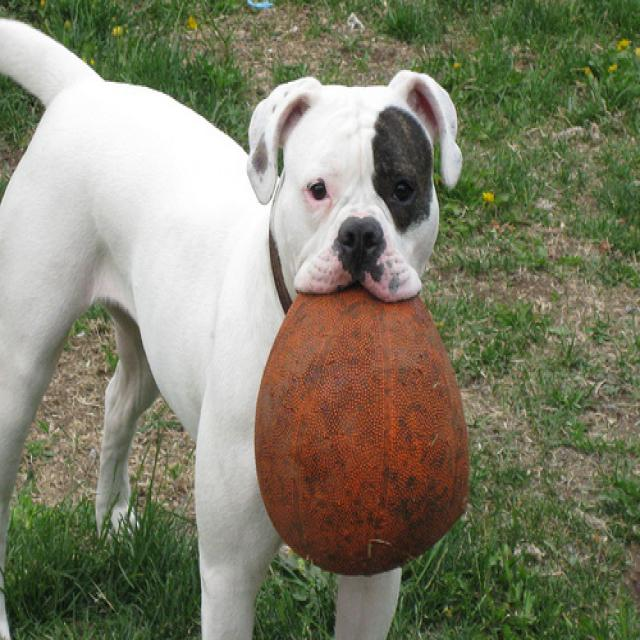dog-american_bulldog: (1, 7, 471, 637)
